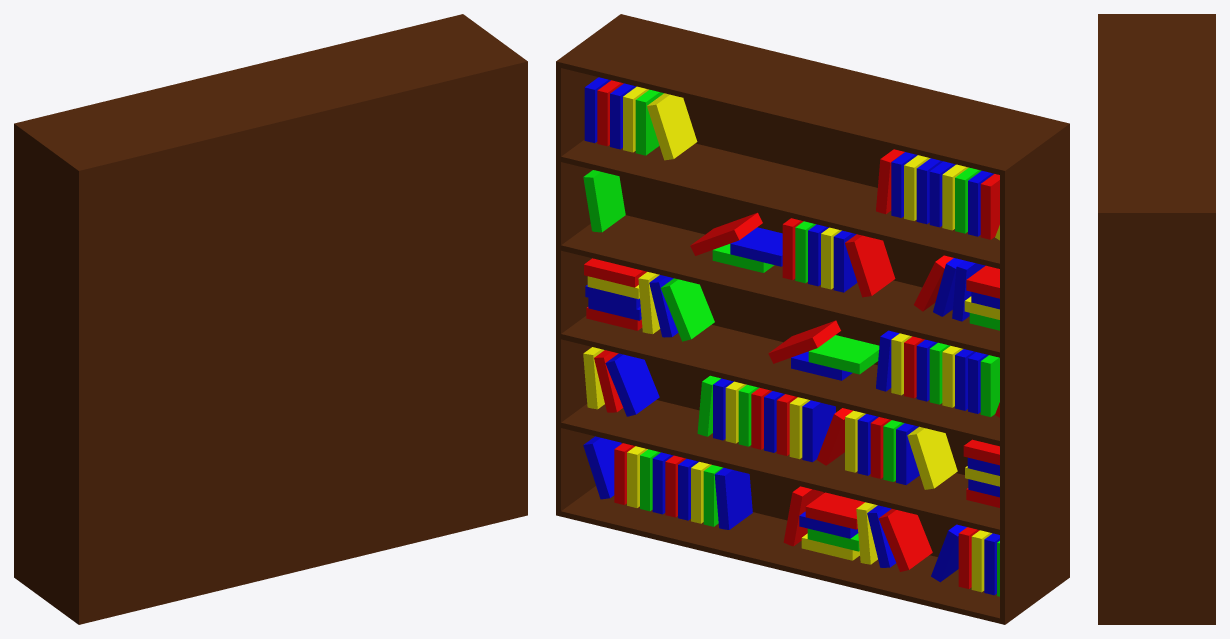
File: WR Bookshelf w Books.fbx
3 renders of one model, left to right at view 1: azimuth 30°, elevation 25°; view 2: azimuth 150°, elevation 25°; view 3: azimuth 270°, elevation 25°, orthographic. The views are drawn at different scales.
Visible parts, largest first — view 1: WR Bookshelf; view 2: WR Bookshelf, WR Books; view 3: WR Bookshelf.
Part boxes in pixels (x1=…): WR Bookshelf: x1=14, y1=14, x2=527, y2=624; WR Bookshelf: x1=556, y1=14, x2=1069, y2=624; WR Books: x1=583, y1=77, x2=999, y2=596; WR Bookshelf: x1=1098, y1=14, x2=1215, y2=624.
Bounding box in the file's own units: 88 × 85 × 22.
